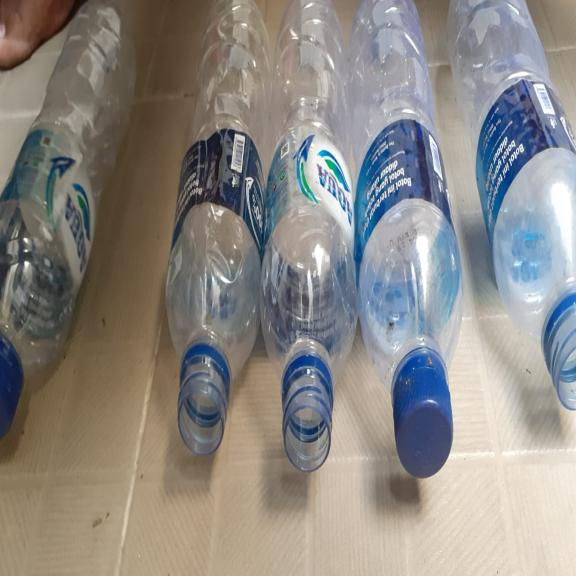Plastik: (0, 0, 138, 443), (355, 0, 468, 480), (448, 0, 576, 412), (166, 0, 270, 462), (260, 0, 359, 474)
